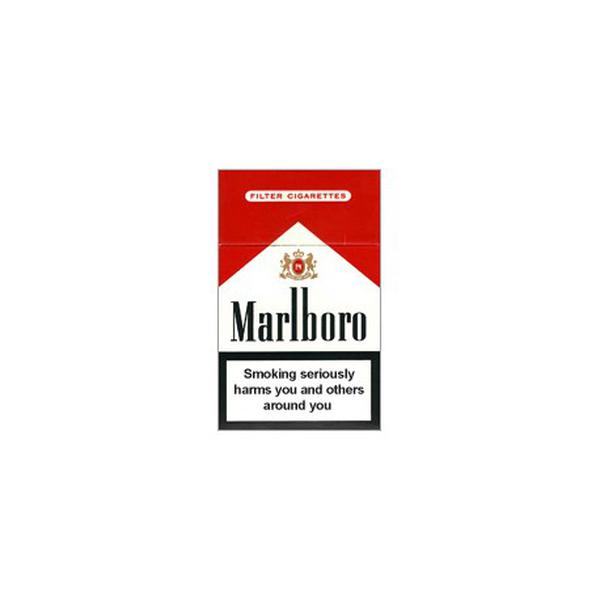marlboro_red: (218, 169, 379, 426)
